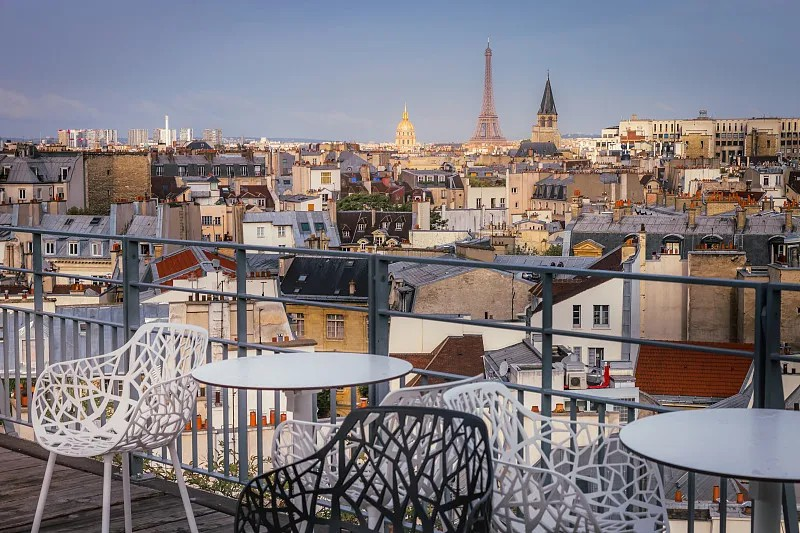Eiffel: (470, 37, 507, 145)
